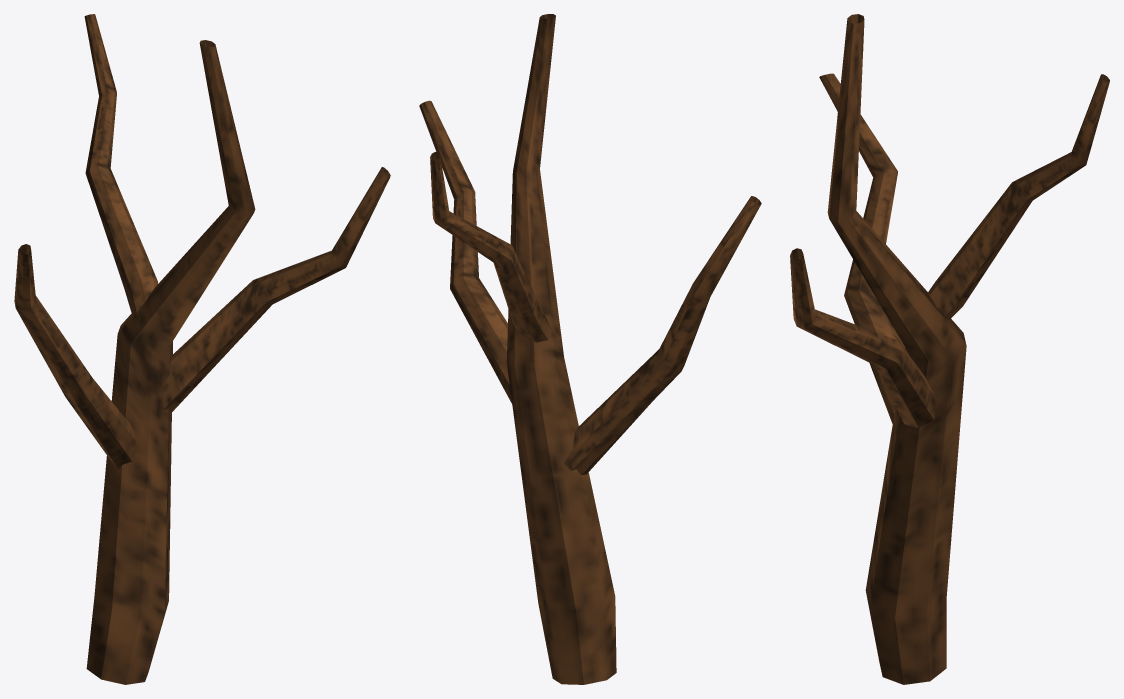
The model's file is DryTree.fbx.
The picture shows the model from 3 angles, left to right: view 1: azimuth 30°, elevation 25°; view 2: azimuth 150°, elevation 25°; view 3: azimuth 270°, elevation 25°; orthographic projection. The views are drawn at different scales.
Parts seen in each view (by area): view 1: m7_arbol_seco_01; view 2: m7_arbol_seco_01; view 3: m7_arbol_seco_01.
Part boxes in pixels (bbox=[...]): m7_arbol_seco_01: bbox=[14, 14, 390, 684]; m7_arbol_seco_01: bbox=[419, 14, 761, 684]; m7_arbol_seco_01: bbox=[790, 14, 1109, 684].
Size of the model in its own units: 3277 by 5588 by 2359.
Materials: 1 (1 with a texture image).
